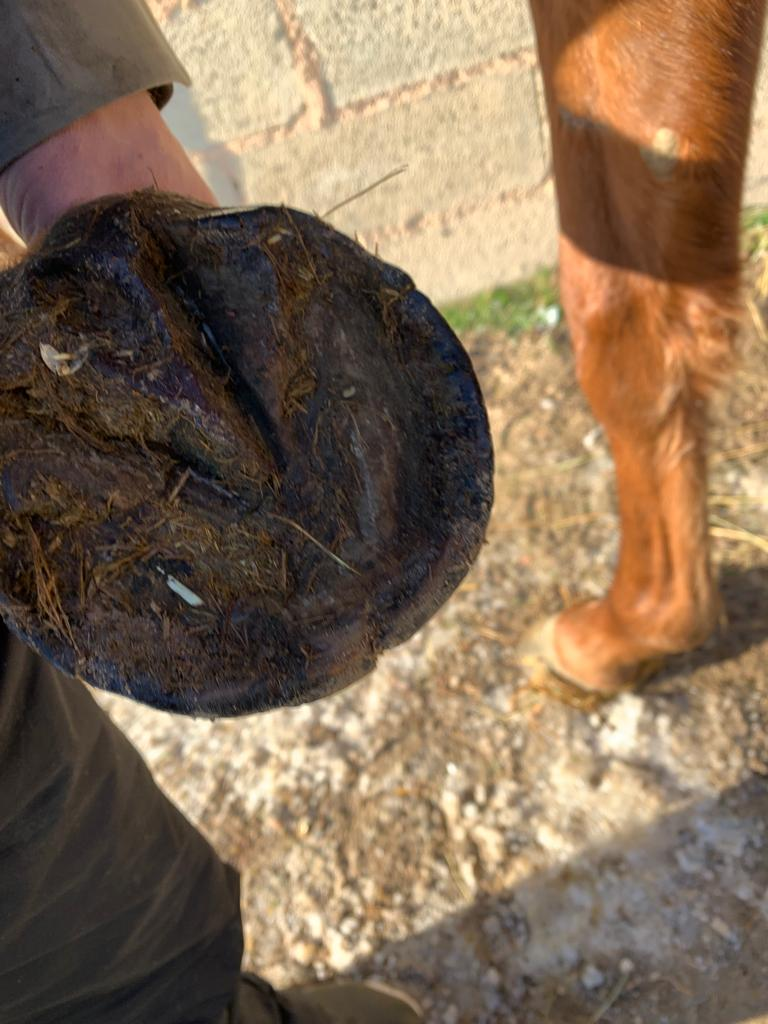horsesole: (1, 204, 495, 718)
